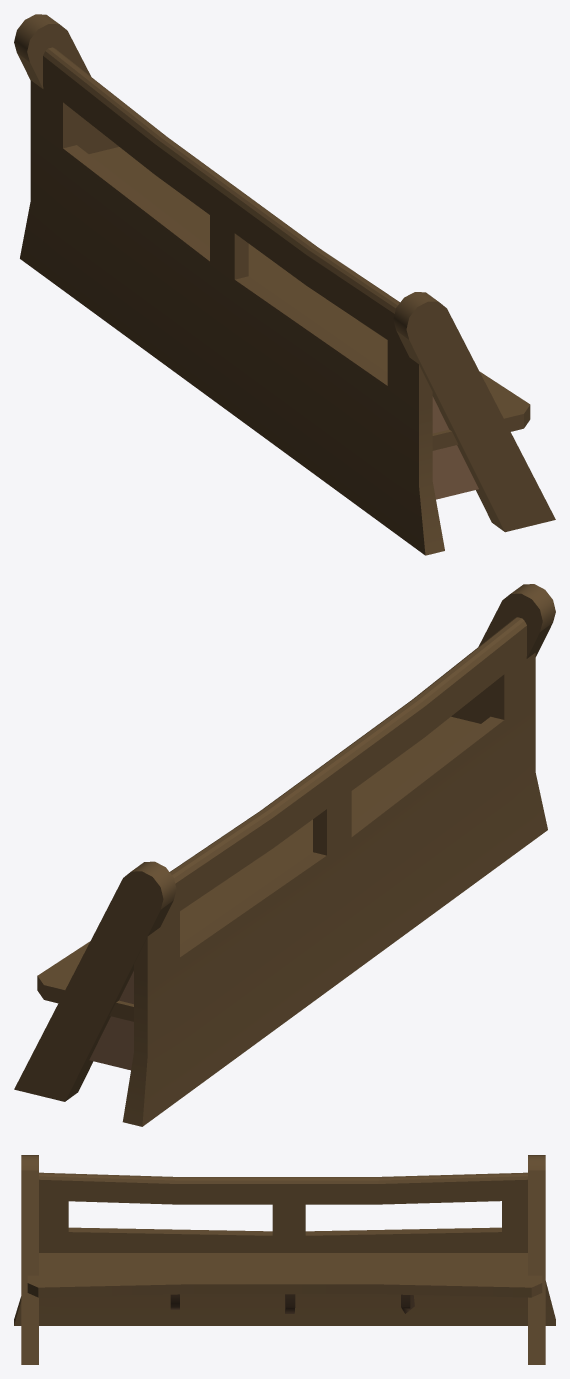
The model's file is M_Banc.FBX.
3 renders of one model, top to bottom at view 1: azimuth 30°, elevation 25°; view 2: azimuth 150°, elevation 25°; view 3: azimuth 270°, elevation 25°, orthographic. The views are drawn at different scales.
Visible parts, largest first — view 1: M_Banc; view 2: M_Banc; view 3: M_Banc.
Boxes of the visible parts, <box> form: M_Banc: <box>14,14,555,555</box>; M_Banc: <box>14,584,555,1126</box>; M_Banc: <box>14,1155,555,1364</box>.
Size of the model in its own units: 67.7 by 108 by 318.
